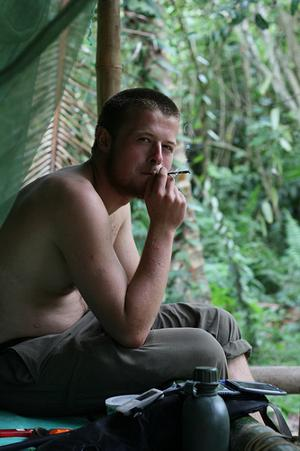person: (2, 89, 269, 433)
